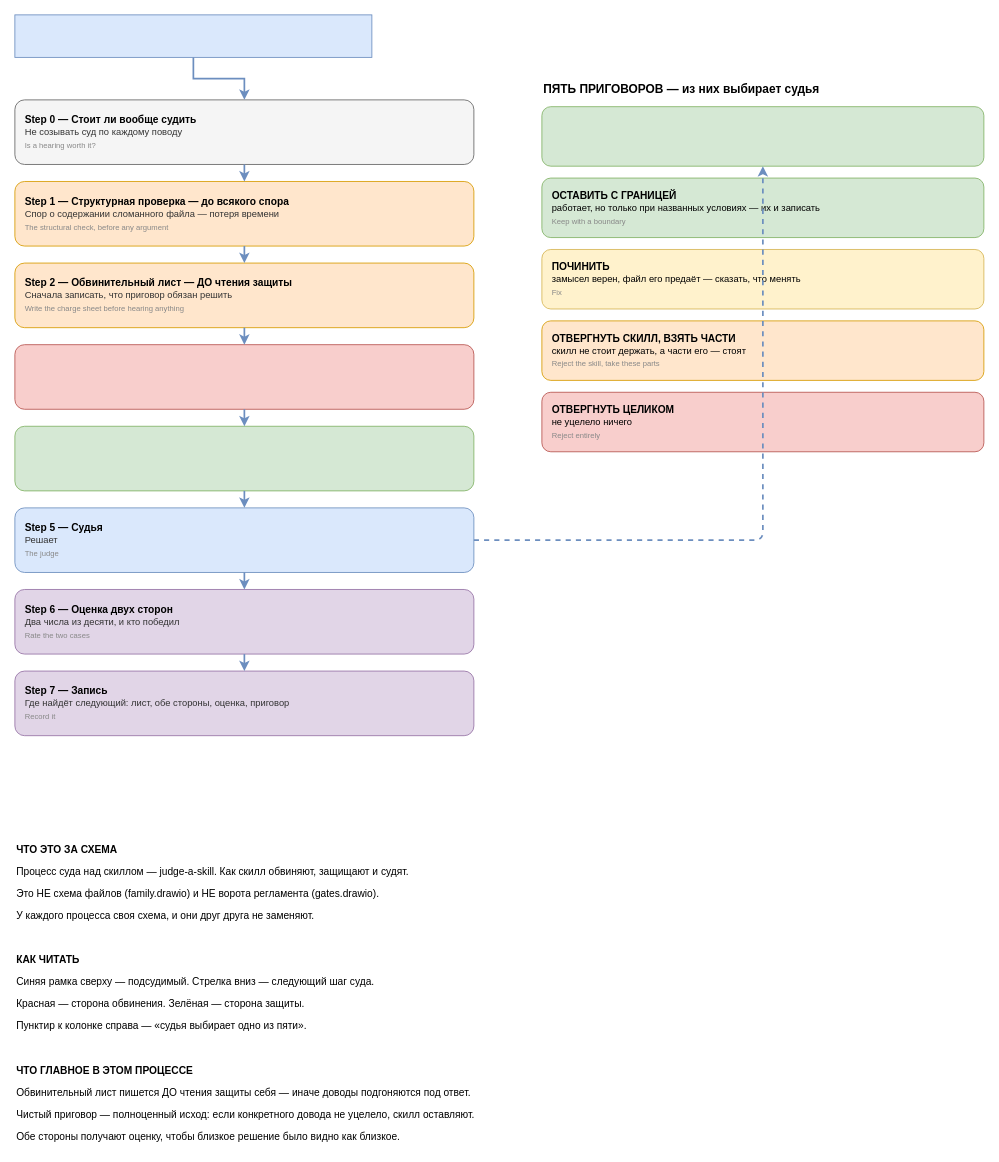
Some shapes in this 999 by 1162 pixel diagram are drawn without their labels. Here are the shapes that lost their labels. From the top down, the centre of each, then its label:
the point at 193,35: СКИЛЛ-ПОДСУДИМЫЙ
the point at 762,136: ОПРАВДАН ни один конкретный довод не устоял — оставить целиком Acquit
the point at 244,376: Step 3 — Обвинение Доказывает, почему скилл НЕ надо оставлять The prosecution
the point at 244,458: Step 4 — Защита Доказывает, почему скилл надо оставить The defence
